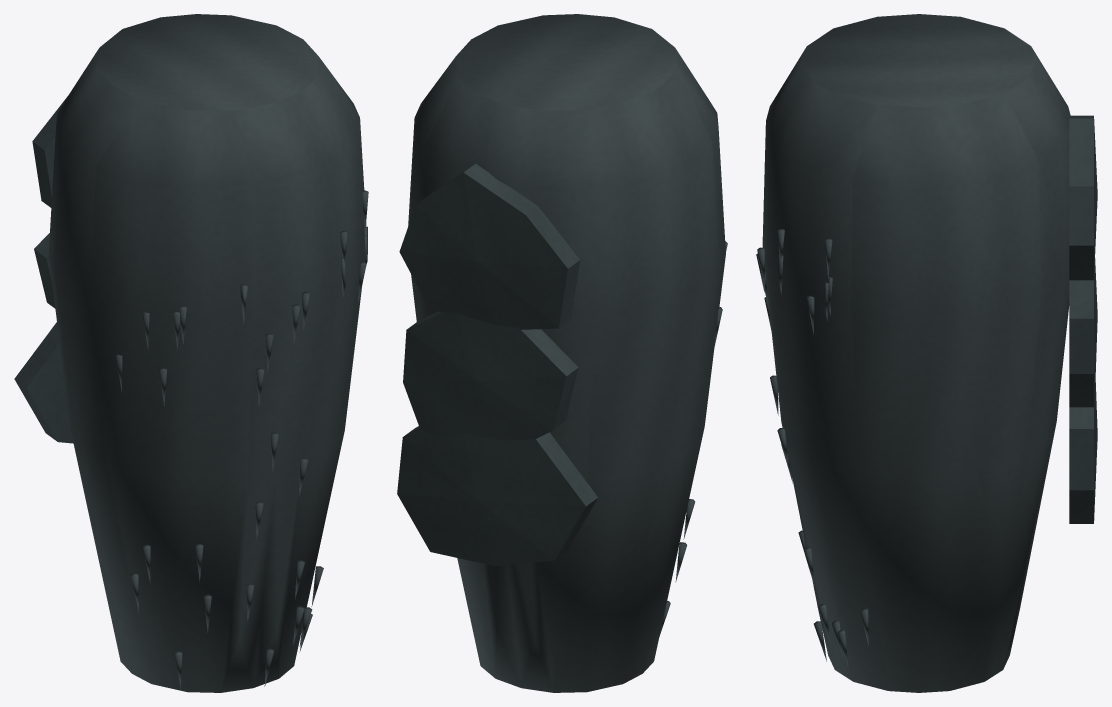
File: thigh_r_lod1.glb
3 renders of one model, left to right at view 1: azimuth 30°, elevation 25°; view 2: azimuth 150°, elevation 25°; view 3: azimuth 270°, elevation 25°, orthographic.
Visible parts, largest first — view 1: dormin_thigh_r_LOD1; view 2: dormin_thigh_r_LOD1; view 3: dormin_thigh_r_LOD1.
Boxes of the visible parts, x1,y1,x2,y2 form: dormin_thigh_r_LOD1: (14, 14, 368, 692); dormin_thigh_r_LOD1: (397, 14, 727, 692); dormin_thigh_r_LOD1: (756, 14, 1097, 692).
Size of the model in its own units: 1.9 by 3.87 by 2.01.
Materials: 2 (2 with a texture image).
